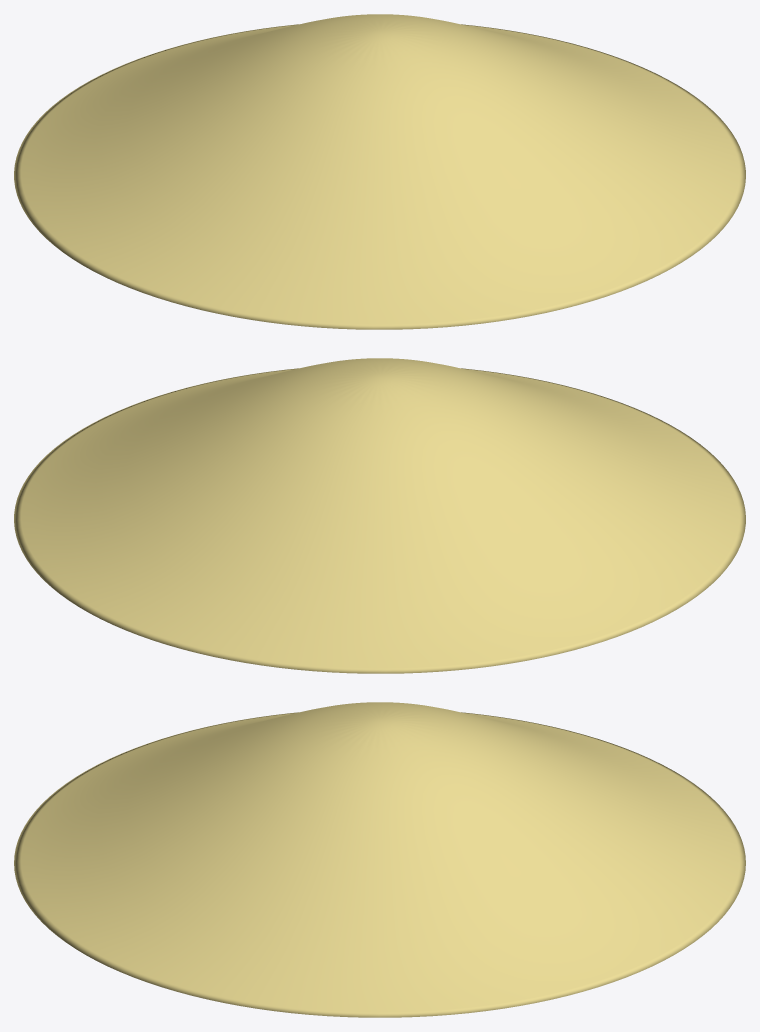
Rendered from hill_sand.fbx.
3 renders of one model, top to bottom at view 1: azimuth 30°, elevation 25°; view 2: azimuth 150°, elevation 25°; view 3: azimuth 270°, elevation 25°, orthographic.
Visible parts, largest first — view 1: Circle; view 2: Circle; view 3: Circle.
Part boxes in pixels (x1,y1,x2,y2): Circle: [14, 14, 745, 329]; Circle: [14, 358, 745, 673]; Circle: [14, 702, 745, 1017].
Bounding box in the file's own units: 925 × 199 × 925.
